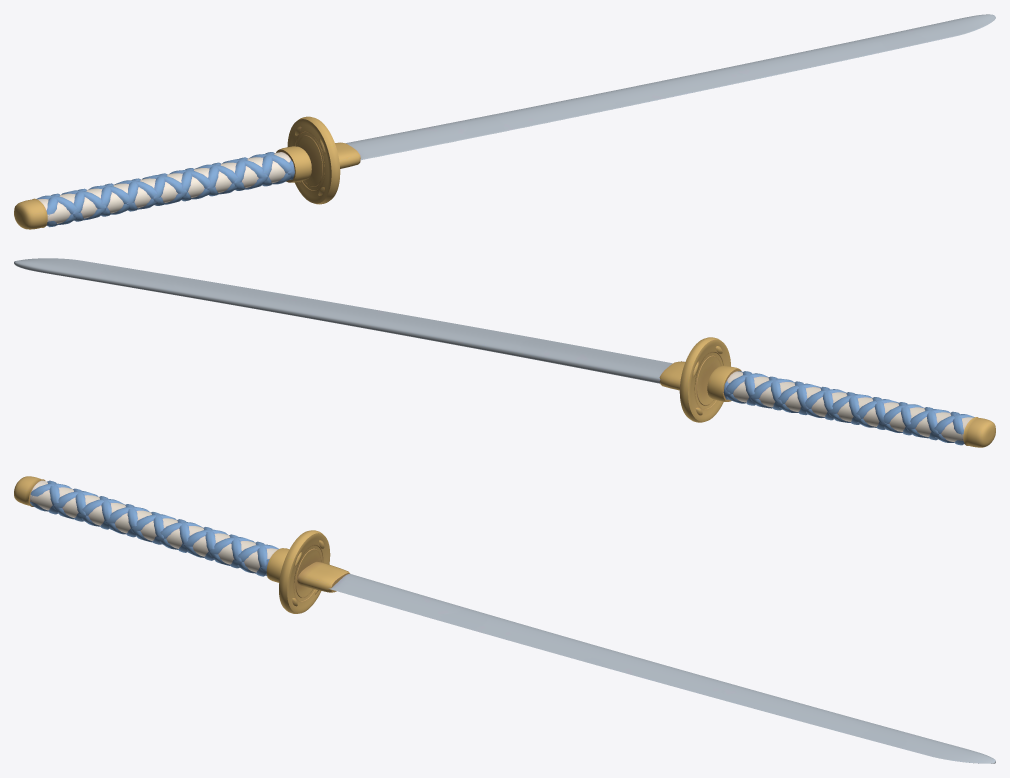
File: katana.glb
3 renders of one model, top to bottom at view 1: azimuth 30°, elevation 25°; view 2: azimuth 150°, elevation 25°; view 3: azimuth 330°, elevation 25°, orthographic. The views are drawn at different scales.
Parts seen in each view (by area): view 1: katana_body; view 2: katana_body; view 3: katana_body.
Part boxes in pixels (x1,y1,x2,y2): katana_body: (14, 14, 995, 229); katana_body: (14, 258, 995, 447); katana_body: (14, 476, 995, 763).
Size of the model in its own units: 0.9674 by 0.0746 by 0.0769.
Materials: 1 (1 with a texture image).
